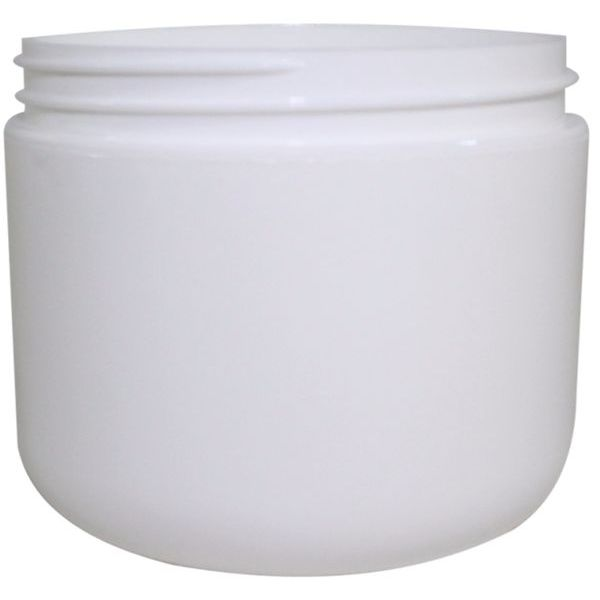Rec_Plastic: (9, 7, 583, 574)
